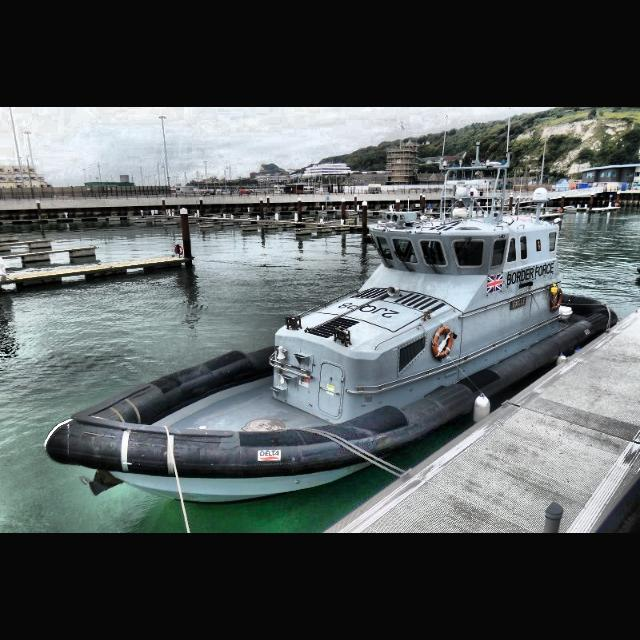patrol_vessel: (41, 148, 618, 510)
